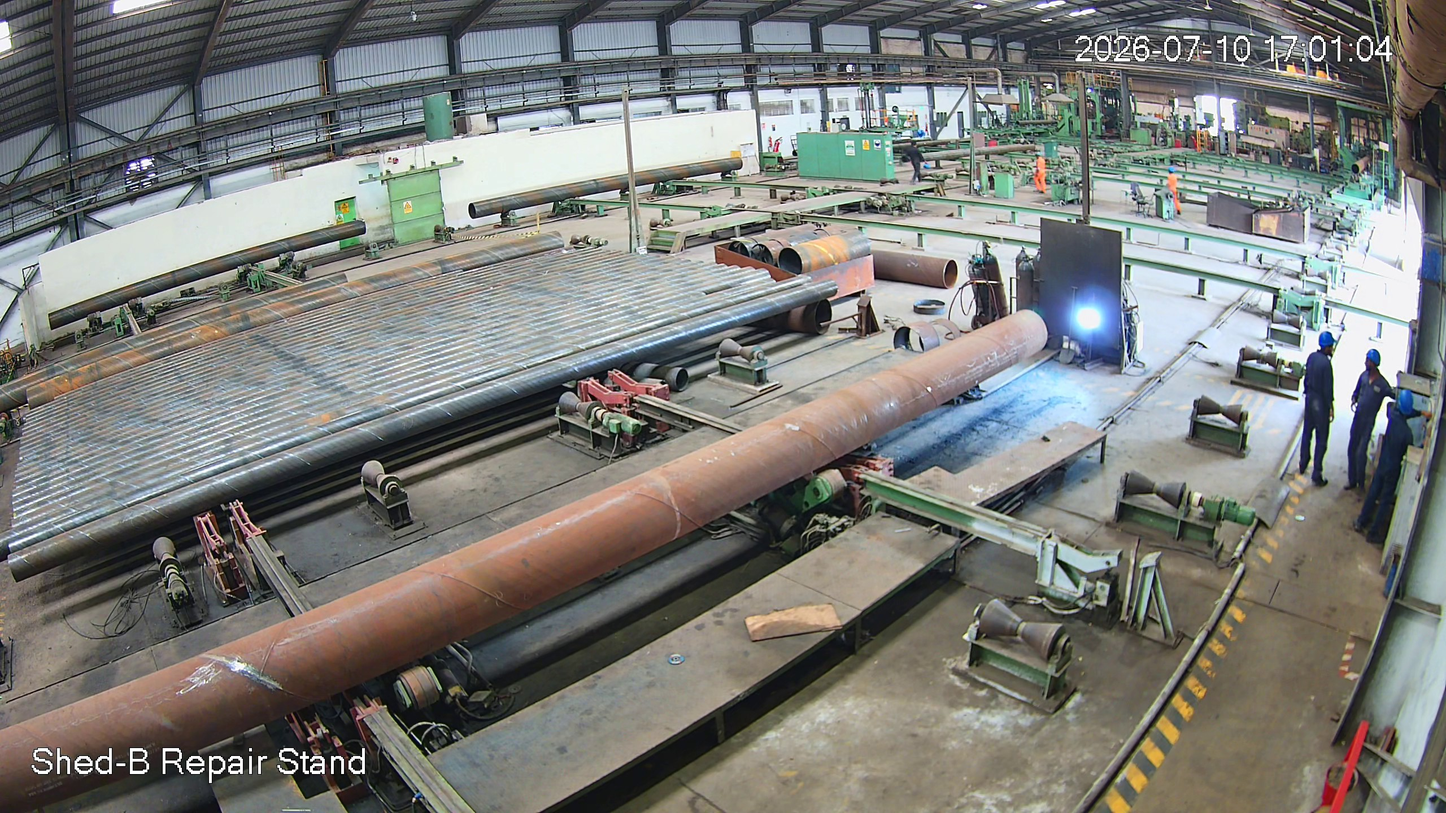Helmet: (1393, 388, 1423, 423), (1364, 346, 1386, 382), (1315, 328, 1338, 360)
Person: (1359, 393, 1424, 534), (1344, 349, 1392, 497), (1297, 330, 1342, 487)
